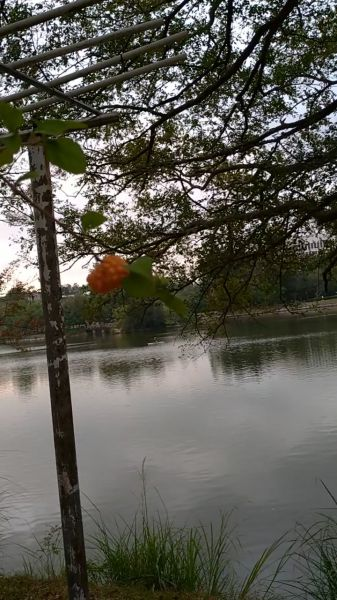eggs: (82, 245, 133, 296)
